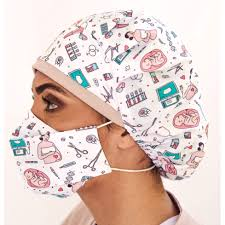with_mask_and_cap: (13, 20, 136, 197)
